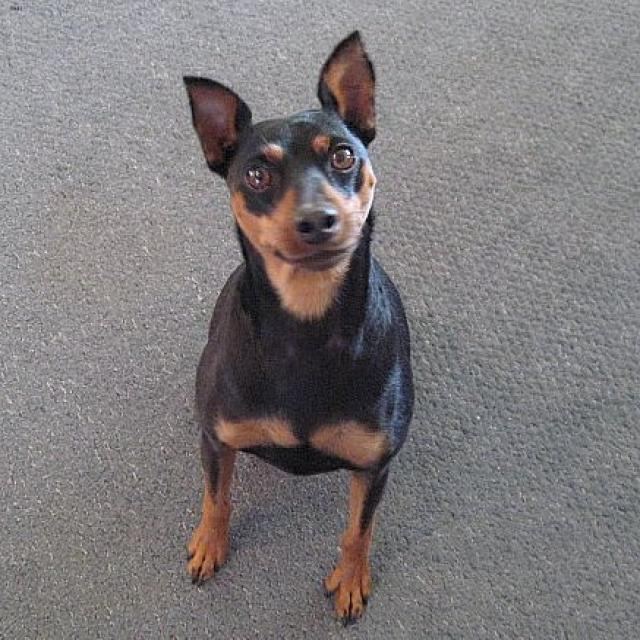dog-miniature_pinscher: (173, 22, 425, 637)
